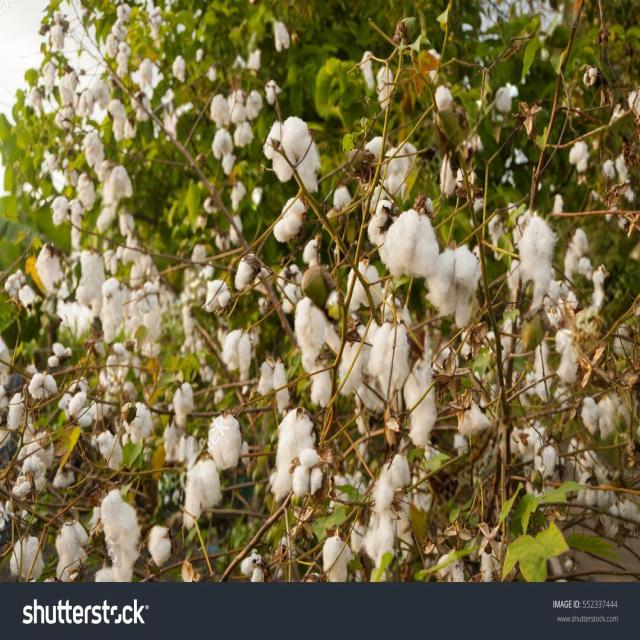Leaf: (267, 400, 334, 508), (372, 196, 448, 288), (501, 204, 561, 316), (262, 100, 328, 197), (397, 336, 448, 453), (364, 313, 410, 409), (101, 488, 149, 579), (176, 456, 229, 529), (201, 413, 248, 480), (268, 191, 311, 254)
